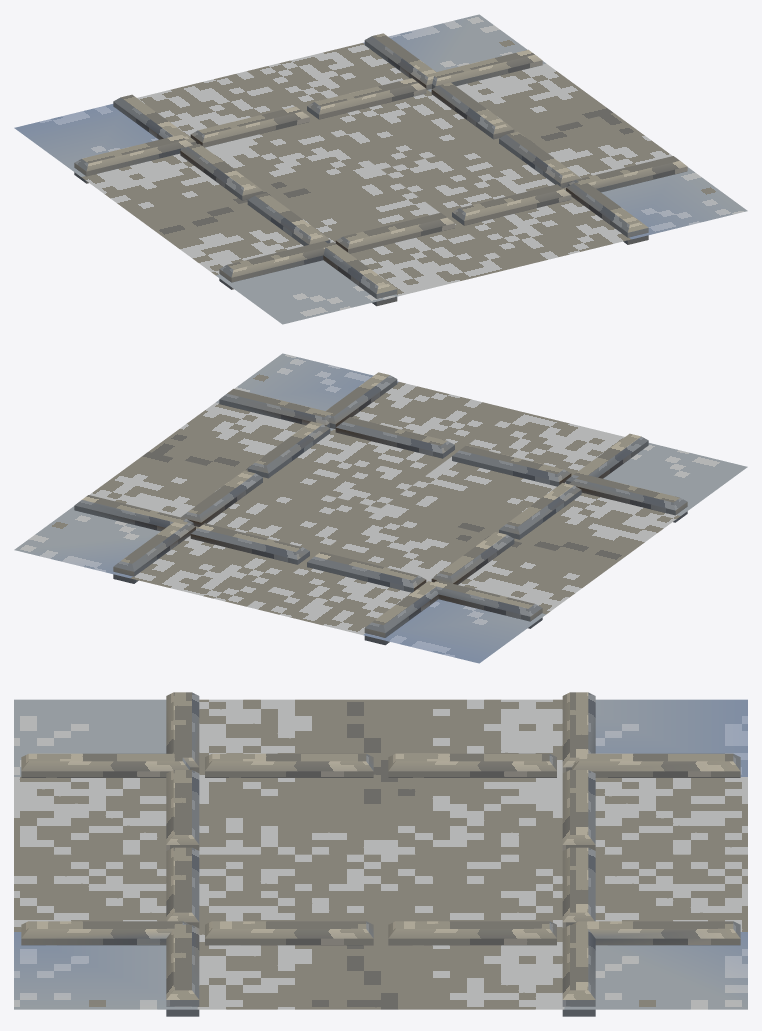
The model's file is mter.ground__path_cross.glb.
3 views of the same model, one above another, from view 1: azimuth 30°, elevation 25°; view 2: azimuth 150°, elevation 25°; view 3: azimuth 270°, elevation 25° (orthographic). The views are drawn at different scales.
Parts seen in each view (by area): view 1: kit_shell_ground, kit_kerbs; view 2: kit_shell_ground, kit_kerbs; view 3: kit_shell_ground, kit_kerbs.
Part boxes in pixels (bbox=[...]): kit_shell_ground: bbox=[14, 14, 747, 324]; kit_kerbs: bbox=[74, 33, 687, 306]; kit_shell_ground: bbox=[14, 353, 747, 663]; kit_kerbs: bbox=[74, 372, 687, 645]; kit_shell_ground: bbox=[14, 699, 747, 1009]; kit_kerbs: bbox=[21, 692, 740, 1016].
Bounding box in the file's own units: 4 × 0.14 × 4.
3 materials, 3 textured.
